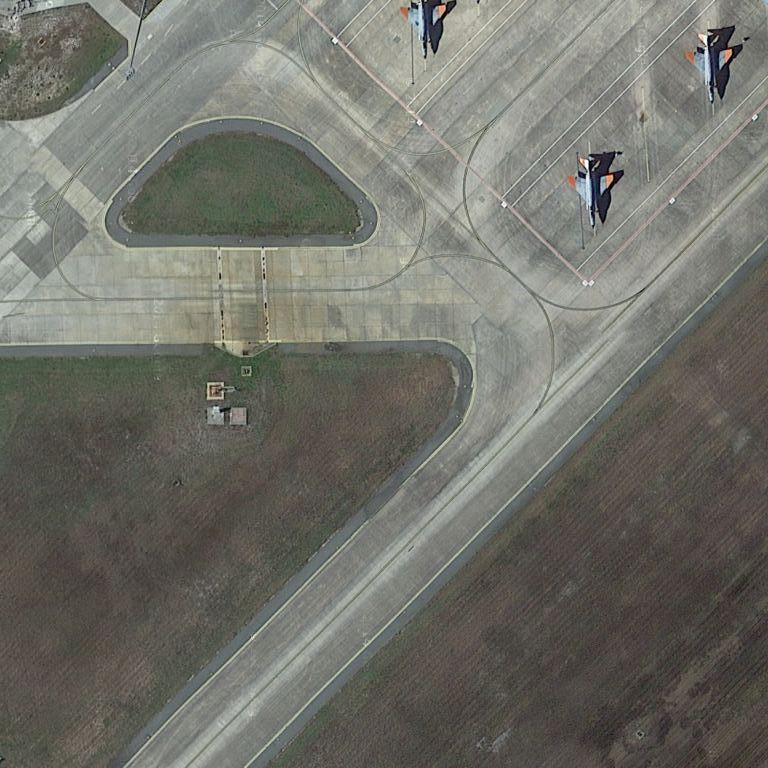plane: (684, 23, 738, 114), (566, 149, 620, 239), (396, 2, 456, 63)
